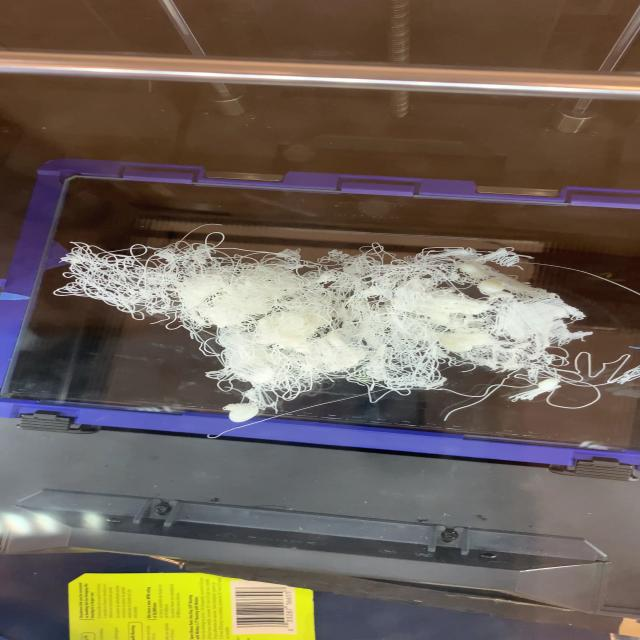spaghetti: (52, 224, 632, 424)
